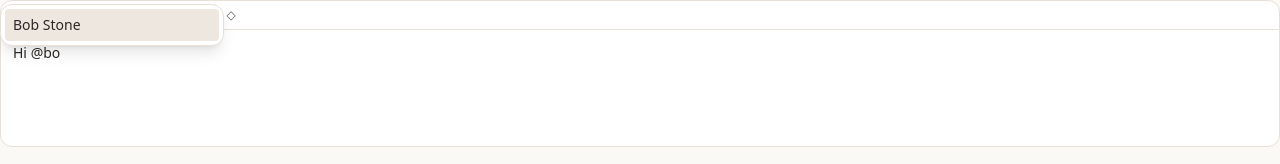
RichEditor mentions › offers people after "@" and inserts a mention link
The image size is (1280, 164).
Expected: the list named "Mention someone" is shown, [0,4,224,46]
Press the mouse on the option "Bob Stone" at coordinates (112, 25), box [5,9,219,41]
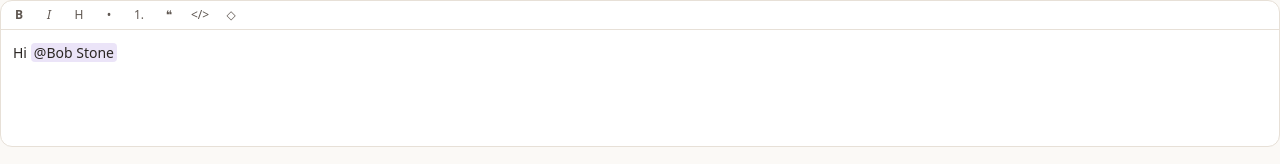
Now the list is gone
